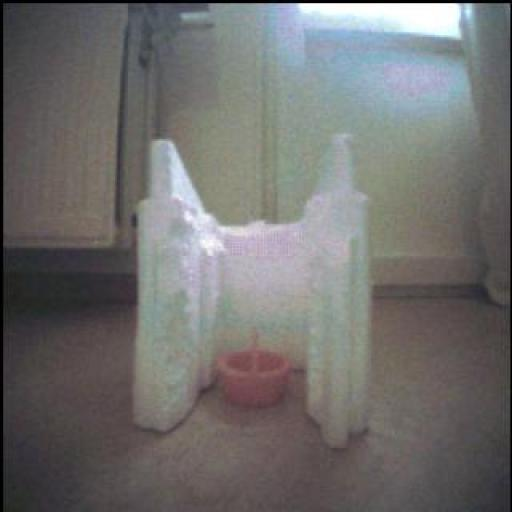Basket: (219, 345, 292, 407)
